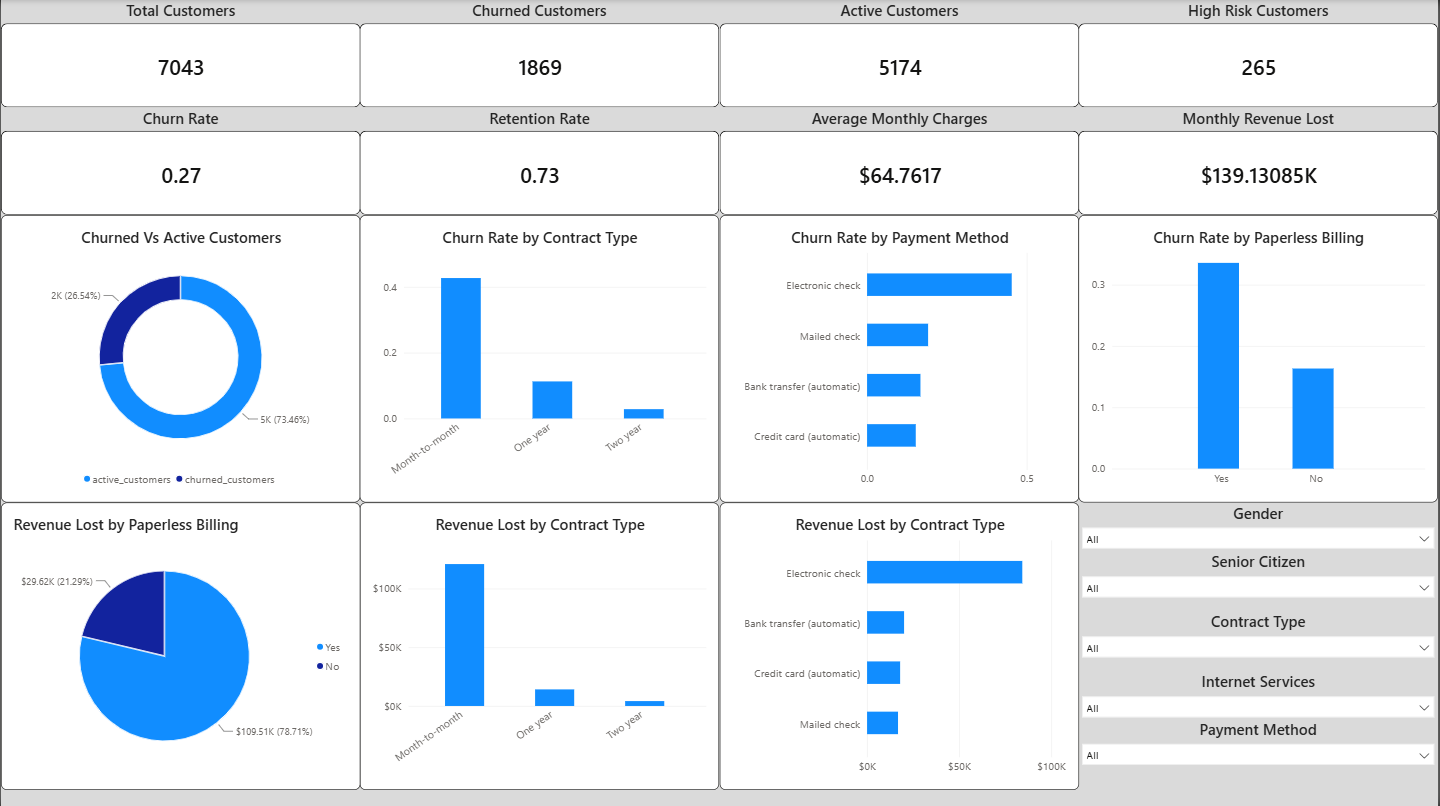

This screenshot's page, from the dashboard's own definition file:
{"tool":"powerbi","page":{"name":"Executive SUmmary","canvas":[1920,1080],"ordinal":0},"visuals":[{"type":"cardVisual","title":"Total Customers","fields":{"Data":["dim_customer.total_customers"]},"box":[0,0,480,144],"z":0},{"type":"cardVisual","title":"Active Customers","fields":{"Data":["customer_churn_features.active_customers"]},"box":[960,0,480,144],"z":1000},{"type":"cardVisual","title":"Churn Rate","fields":{"Data":["customer_churn_features.churn_rate"]},"box":[0,144,480,144],"z":2000},{"type":"cardVisual","title":"Retention Rate","fields":{"Data":["customer_churn_features.retention_rate"]},"box":[480,144,480,144],"z":3000},{"type":"cardVisual","title":"Churned Customers","fields":{"Data":["customer_churn_features.churned_customers"]},"box":[480,0,480,144],"z":4000},{"type":"cardVisual","title":"High Risk Customers","fields":{"Data":["customer_churn_features.high_risk_customers"]},"box":[1440,0,480,144],"z":5000},{"type":"cardVisual","title":"Average Monthly Charges","fields":{"Data":["fact_customer_revenue.average_monthly_charges"]},"box":[960,144,480,144],"z":6000},{"type":"cardVisual","title":"Monthly Revenue Lost","fields":{"Data":["fact_customer_revenue.revenue_lost"]},"box":[1440,144,480,144],"z":7000},{"type":"donutChart","title":"Churned Vs Active Customers","fields":{"Y":["customer_churn_features.active_customers","customer_churn_features.churned_customers"]},"box":[0,288,480,384],"z":8000},{"type":"clusteredColumnChart","title":"Churn Rate by Contract Type","fields":{"Category":["dim_contract.contract_type"],"Y":["customer_churn_features.churn_rate"]},"box":[480,288,480,384],"z":9000},{"type":"clusteredBarChart","title":"Churn Rate by Payment Method","fields":{"Category":["dim_contract.payment_method"],"Y":["customer_churn_features.churn_rate"]},"box":[960,288,480,384],"z":10000},{"type":"clusteredColumnChart","title":"Revenue Lost by Contract Type","fields":{"Category":["dim_contract.contract_type"],"Y":["fact_customer_revenue.revenue_lost"]},"box":[480,672,480,384],"z":11000},{"type":"clusteredBarChart","title":"Revenue Lost by Contract Type","fields":{"Category":["dim_contract.payment_method"],"Y":["fact_customer_revenue.revenue_lost"]},"box":[960,672,480,384],"z":12000},{"type":"slicer","title":"Gender","fields":{"Values":["dim_customer.gender"]},"box":[1440,672,480,64],"z":13000},{"type":"slicer","title":"Senior Citizen","fields":{"Values":["dim_customer.senior_citizen"]},"box":[1440,736,480,64],"z":14000},{"type":"slicer","title":"Contract Type","fields":{"Values":["dim_contract.contract_type"]},"box":[1440,816,480,64],"z":15000},{"type":"slicer","title":"Internet Services","fields":{"Values":["dim_services.internet_service"]},"box":[1440,896,480,64],"z":16000},{"type":"slicer","title":"Payment Method","fields":{"Values":["dim_contract.payment_method"]},"box":[1440,960,480,80],"z":17000},{"type":"pieChart","title":"Revenue Lost by Paperless Billing","fields":{"Category":["dim_contract.paperless_billing"],"Y":["fact_customer_revenue.monthly_revenue_lost"]},"box":[0,672,480,384],"z":18000},{"type":"columnChart","title":"Churn Rate by Paperless Billing","fields":{"Category":["dim_contract.paperless_billing"],"Y":["customer_churn_features.churn_rate"]},"box":[1440,288,480,384],"z":19000}]}

Visuals, with their boxes in screenshot pixels (x1, y1, x2, y2), scaled from the page's 1920x1080 canvas onto the 1440x806 screenshot:
"Total Customers" cardVisual: 0, 0, 360, 107
"Active Customers" cardVisual: 720, 0, 1080, 107
"Churn Rate" cardVisual: 0, 107, 360, 215
"Retention Rate" cardVisual: 360, 107, 720, 215
"Churned Customers" cardVisual: 360, 0, 720, 107
"High Risk Customers" cardVisual: 1080, 0, 1439, 107
"Average Monthly Charges" cardVisual: 720, 107, 1080, 215
"Monthly Revenue Lost" cardVisual: 1080, 107, 1439, 215
"Churned Vs Active Customers" donutChart: 0, 215, 360, 502
"Churn Rate by Contract Type" clusteredColumnChart: 360, 215, 720, 502
"Churn Rate by Payment Method" clusteredBarChart: 720, 215, 1080, 502
"Revenue Lost by Contract Type" clusteredColumnChart: 360, 502, 720, 788
"Revenue Lost by Contract Type" clusteredBarChart: 720, 502, 1080, 788
"Gender" slicer: 1080, 502, 1439, 549
"Senior Citizen" slicer: 1080, 549, 1439, 597
"Contract Type" slicer: 1080, 609, 1439, 657
"Internet Services" slicer: 1080, 669, 1439, 716
"Payment Method" slicer: 1080, 716, 1439, 776
"Revenue Lost by Paperless Billing" pieChart: 0, 502, 360, 788
"Churn Rate by Paperless Billing" columnChart: 1080, 215, 1439, 502
